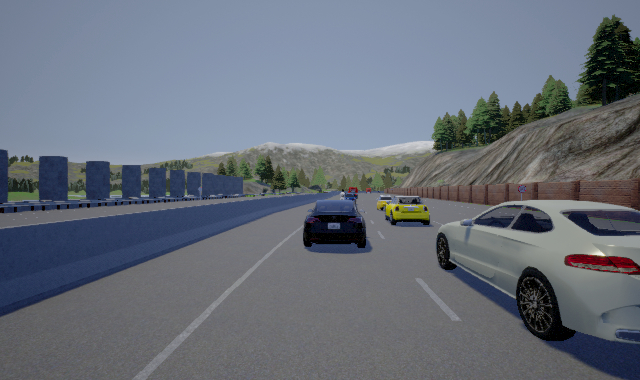traffic_sign: (518, 185, 526, 193)
vehicle: (435, 200, 640, 345), (303, 200, 365, 248), (384, 195, 430, 225)
